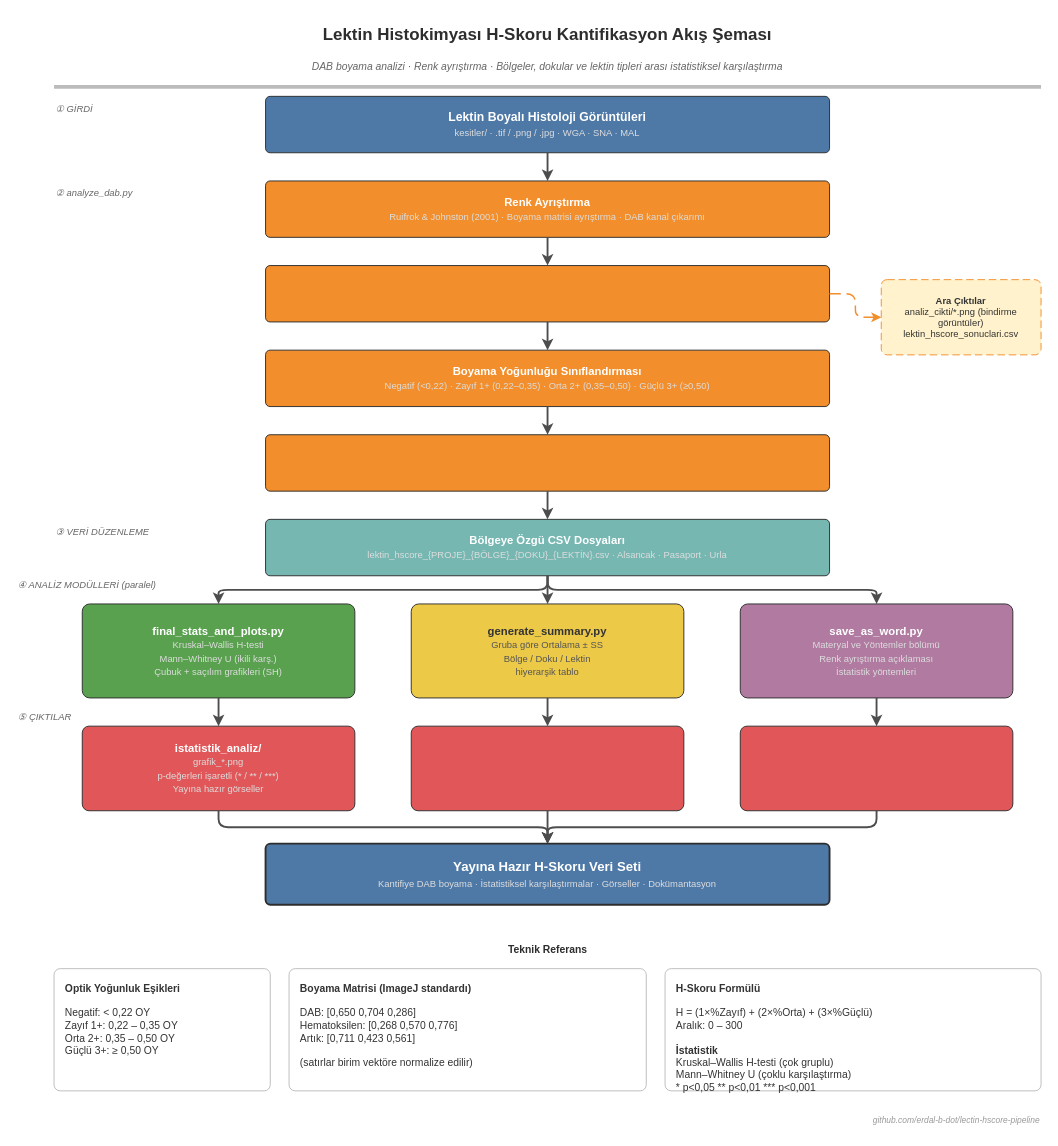
Some shapes in this 1058 by 1146 pixel diagram are drawn without their labels. Each missing label, with the centre of its shape:
"H-Skoru Hesabı (0 – 300 ölçeği) H = (1 × %Zayıf) + (2 × %Orta) + (3 × %Güçlü)" goes at (x=547, y=462).
"materyal_metot.docx Yöntemler bölümü Hakem değerlendirmesine hazır Word formatı" goes at (x=876, y=768).
"mean_sd_ozet.txt Hiyerarşik özet tablo Ort. ± SS · n değerleri Makale için hazır" goes at (x=547, y=768).
"Optik Yoğunluk (OY) Hesabı OY = −log₁₀(RGB / 255) · Lambert–Beer yasası" goes at (x=547, y=293).
